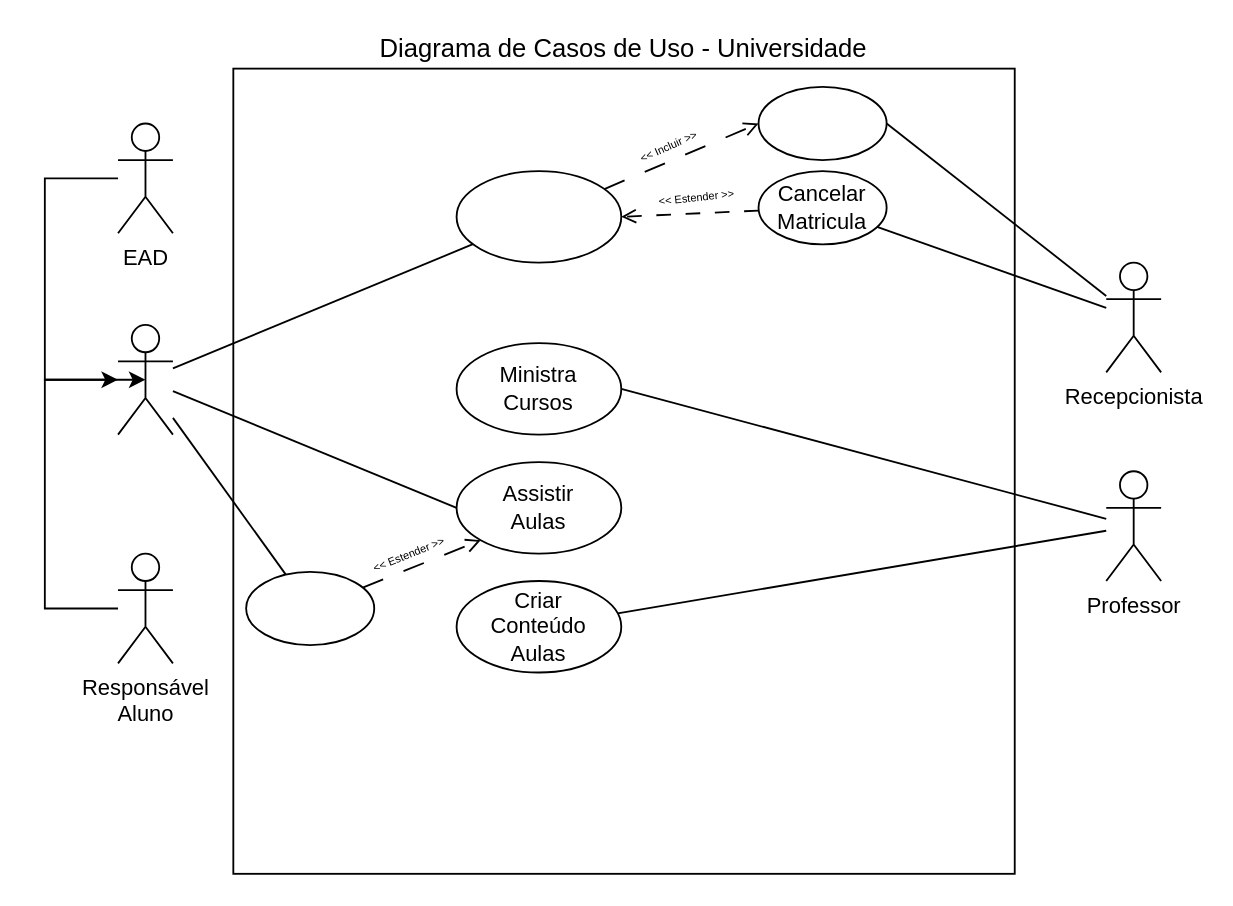
The diagram is 1233 pixels wide and 906 high, and some of its shapes have lost their labels. The shapes that lost their labels are listed below. From the top down, each one's centre as x and y in pixels, then its label:
At (x=822, y=122): "Realizar Matricula".
At (x=538, y=216): "Matricula".
At (x=144, y=379): "Aluno".
At (x=309, y=607): "Faltas".
